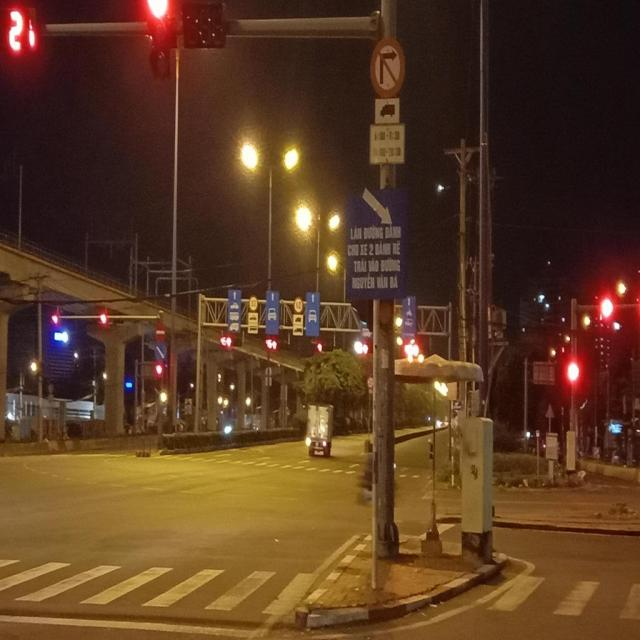cam_re_phai: (369, 37, 406, 99)
cam_xe_di_nguoc_chieu: (154, 320, 167, 342)
duong_cho_xe_o_to: (306, 292, 319, 336), (266, 291, 279, 335)
huong_phai_di_vuot_chuong_ngai_vat_phai: (154, 341, 166, 362)
khac: (344, 190, 408, 302), (370, 124, 405, 164), (227, 290, 242, 333), (402, 296, 416, 338), (376, 98, 398, 124), (293, 313, 304, 325), (248, 323, 258, 333), (293, 326, 303, 335), (248, 313, 258, 322)
toc_do_toi_da_60: (294, 296, 303, 314)
toc_do_toi_da_80: (249, 295, 259, 311)
